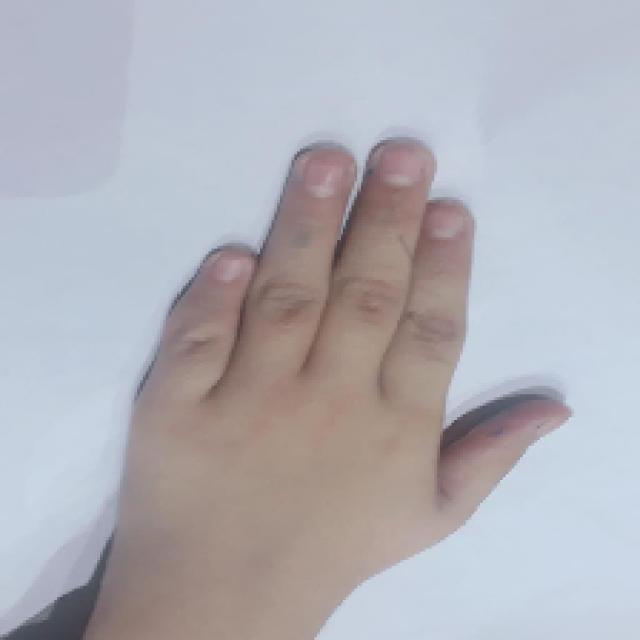Nail: (376, 142, 425, 187), (304, 151, 349, 198), (424, 200, 466, 240), (217, 253, 246, 279), (540, 416, 564, 436)
